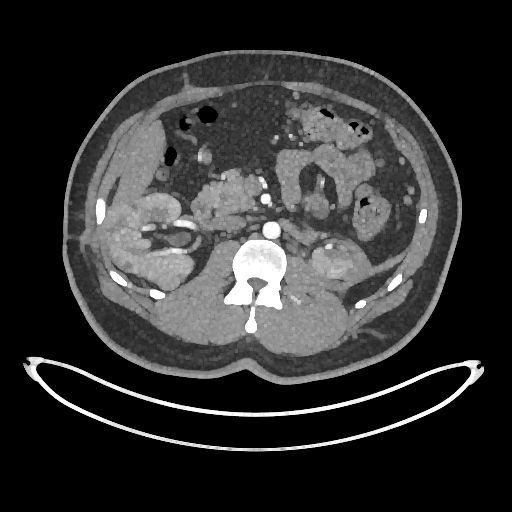Lesion: (153, 272, 181, 294)
